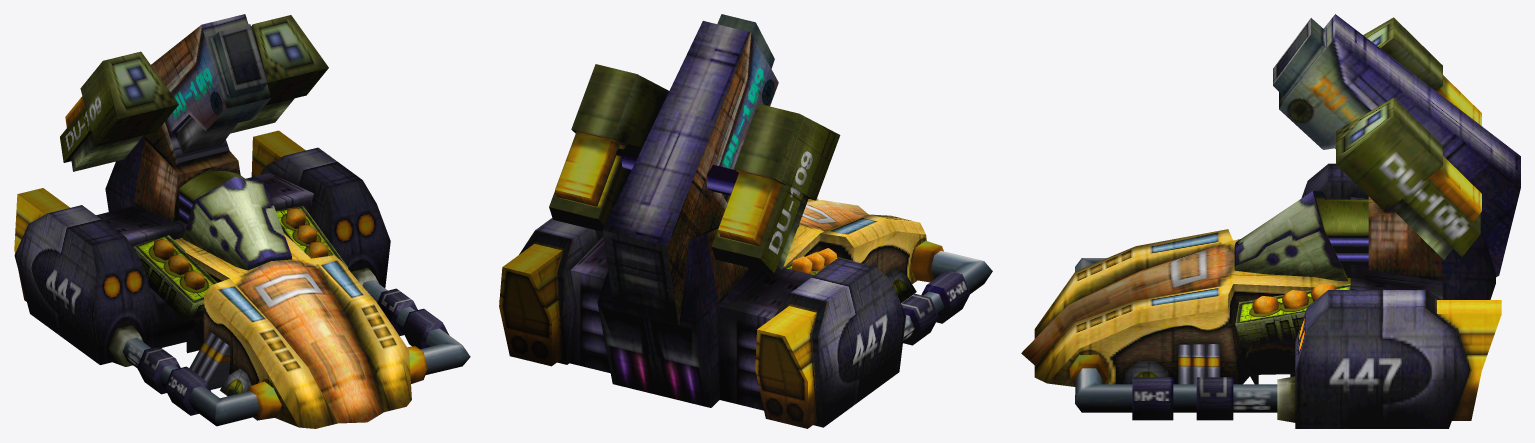
File: datan_common_B0001_5947bc3a.obj
3 renders of one model, left to right at view 1: azimuth 30°, elevation 25°; view 2: azimuth 150°, elevation 25°; view 3: azimuth 270°, elevation 25°, orthographic. The views are drawn at different scales.
Visible parts, largest first — view 1: datan_common_B0001_5947bc3a; view 2: datan_common_B0001_5947bc3a; view 3: datan_common_B0001_5947bc3a.
Boxes of the visible parts, bbox=[...] form: datan_common_B0001_5947bc3a: bbox=[14, 14, 470, 428]; datan_common_B0001_5947bc3a: bbox=[499, 14, 992, 428]; datan_common_B0001_5947bc3a: bbox=[1021, 14, 1520, 428].
Size of the model in its own units: 5.55 by 5.45 by 7.38.
Materials: 1 (1 with a texture image).
